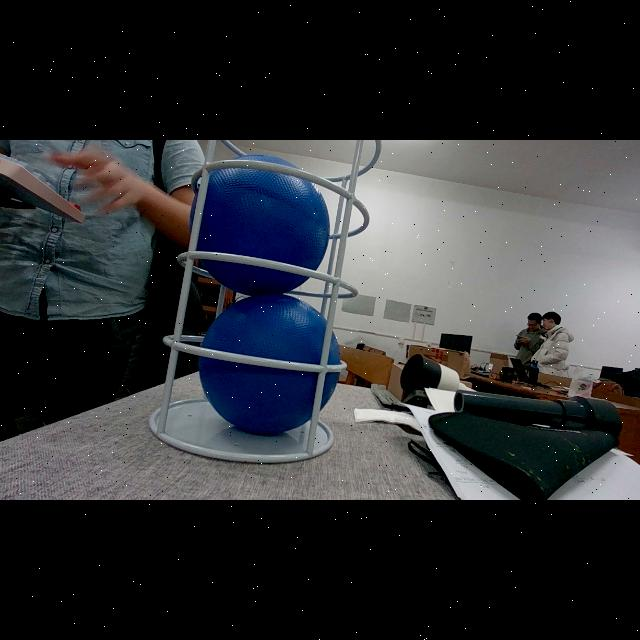B: (188, 154, 329, 298), (198, 294, 340, 436)
S: (150, 140, 382, 462)
